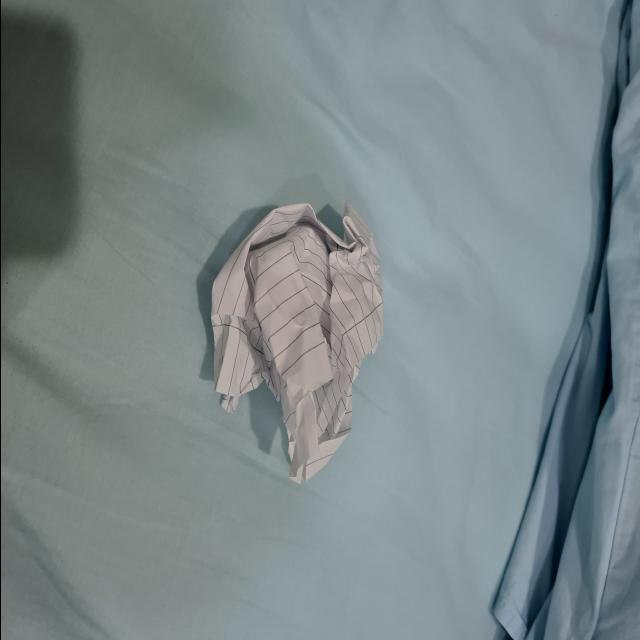Paper: (193, 172, 389, 496)
